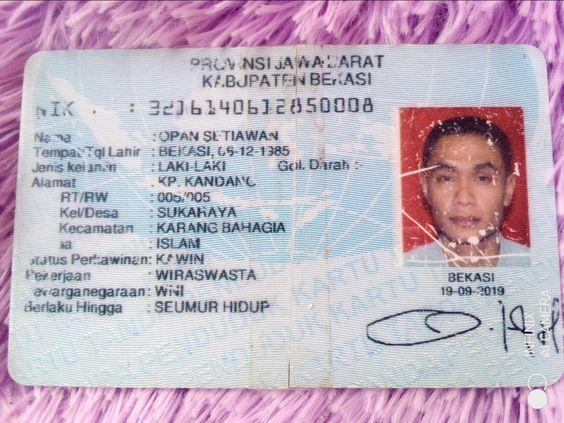ID-card: (9, 51, 556, 376)
